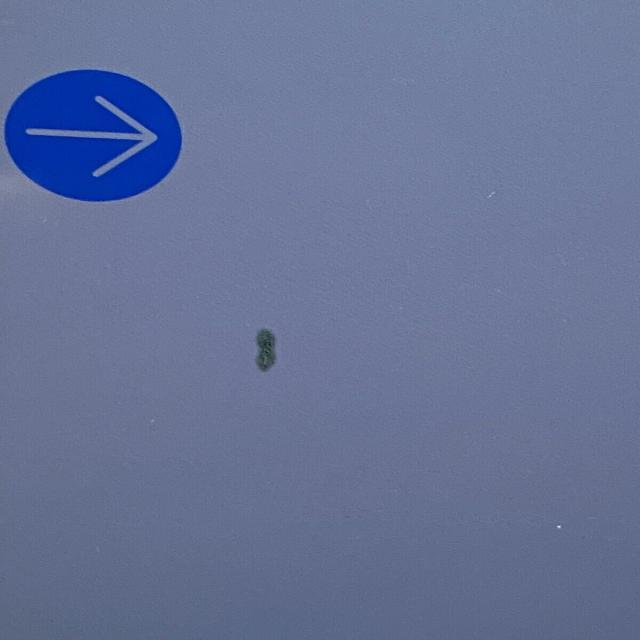dead pixel: (178, 286, 346, 404)
